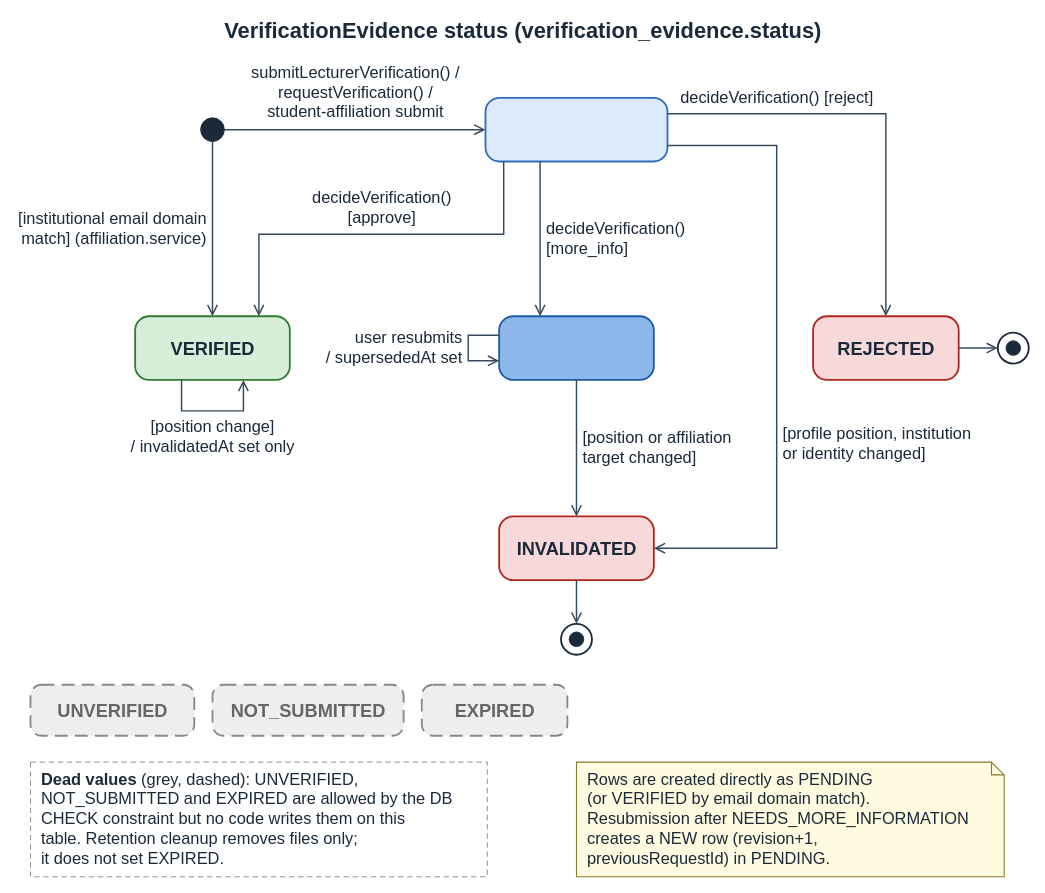
Image size: 1045x893. Some labels were removed from this diagram. Here are the shapes that lost their labels. From the top down, the box of each, then its label:
(484, 96, 668, 162): PENDING
(498, 315, 654, 380): NEEDS_MORE_ INFORMATION
